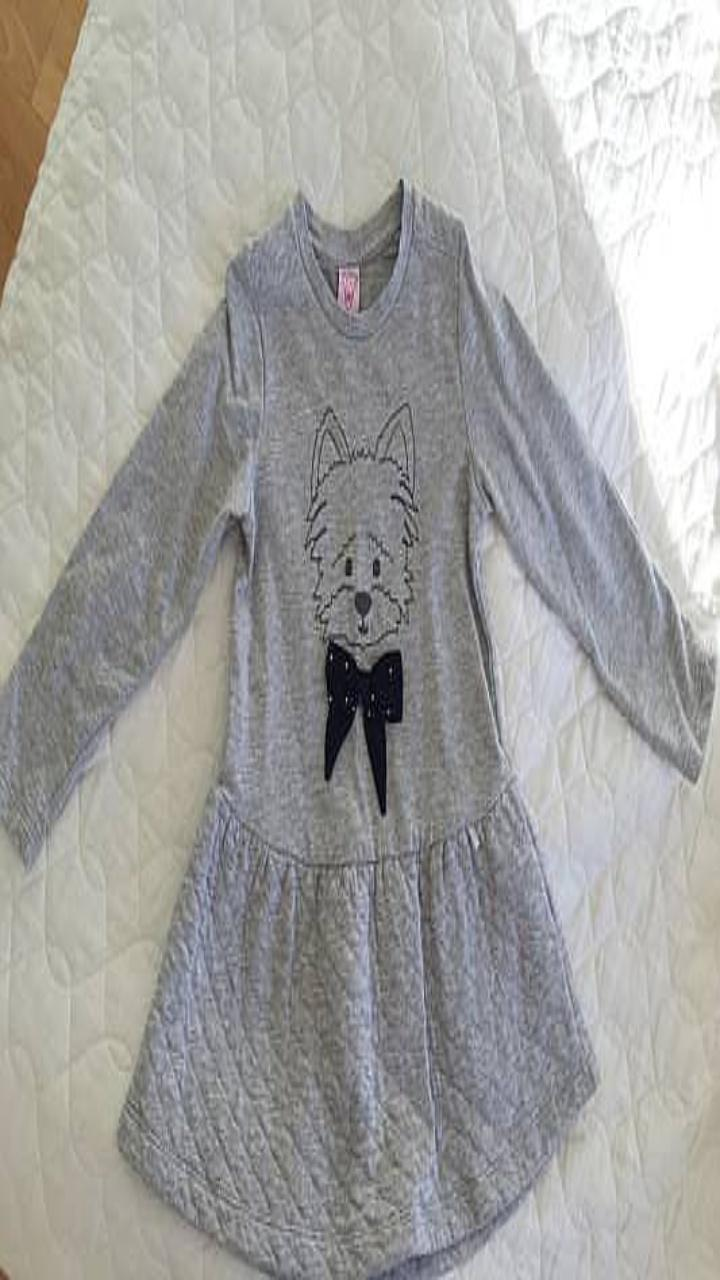T-Shirt: (0, 177, 716, 1279)
